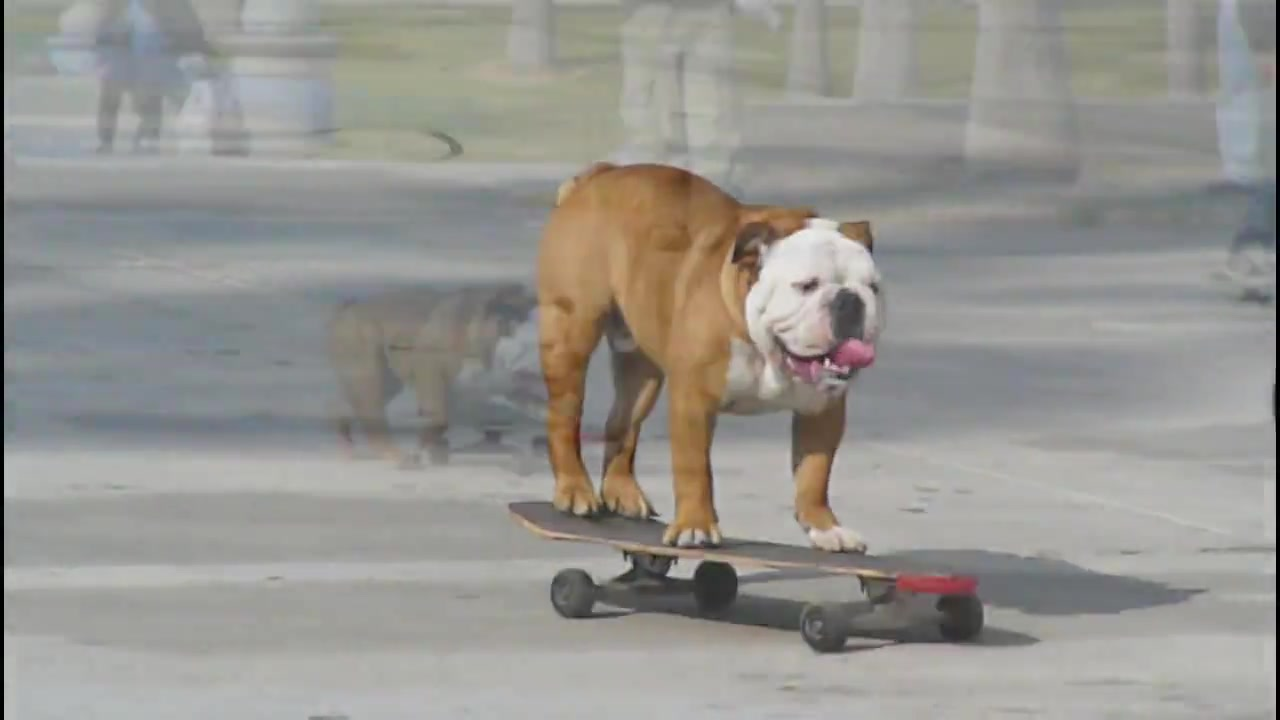dog: (535, 161, 887, 557)
